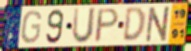9: (46, 9, 65, 45)
D: (121, 6, 147, 43)
G: (20, 10, 43, 45)
N: (144, 5, 173, 44)
P: (93, 7, 121, 44)
U: (70, 6, 97, 45)
